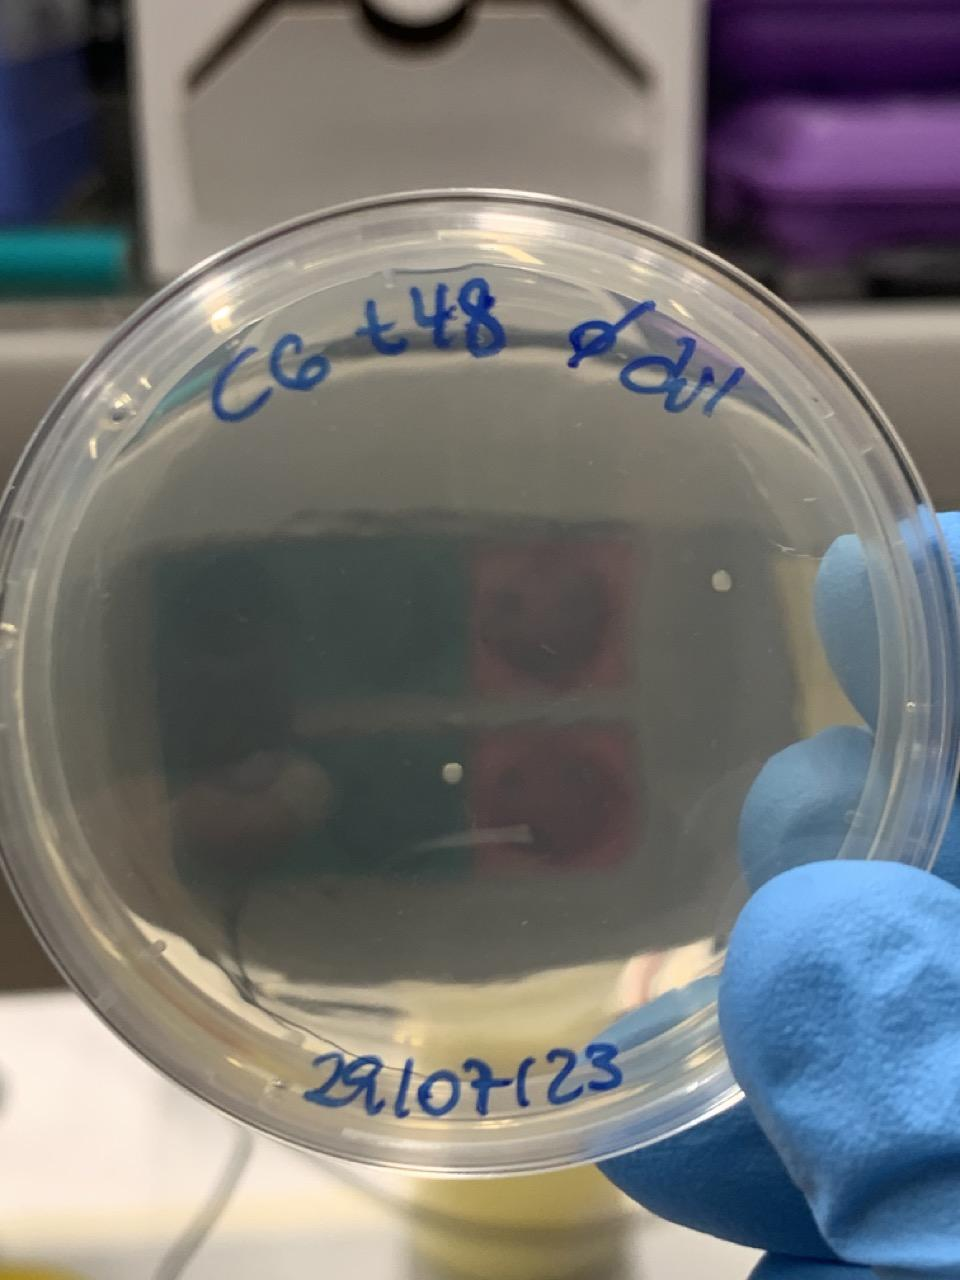colony: (441, 757, 466, 787), (712, 567, 734, 595)
